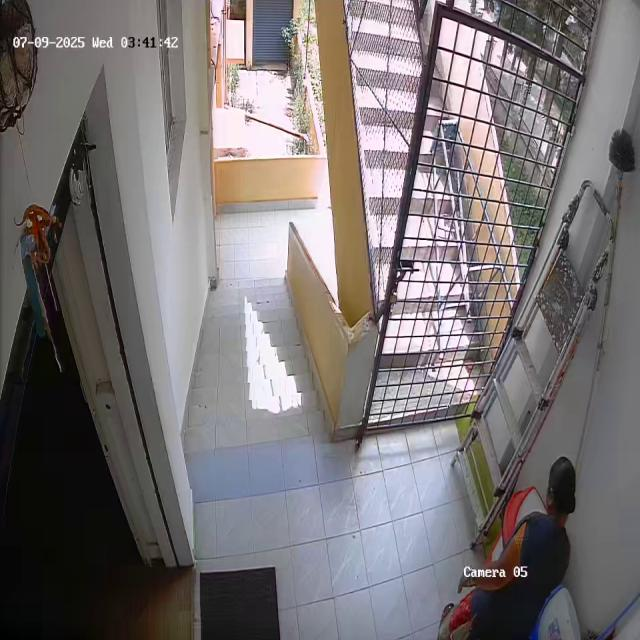person: (453, 454, 577, 640)
